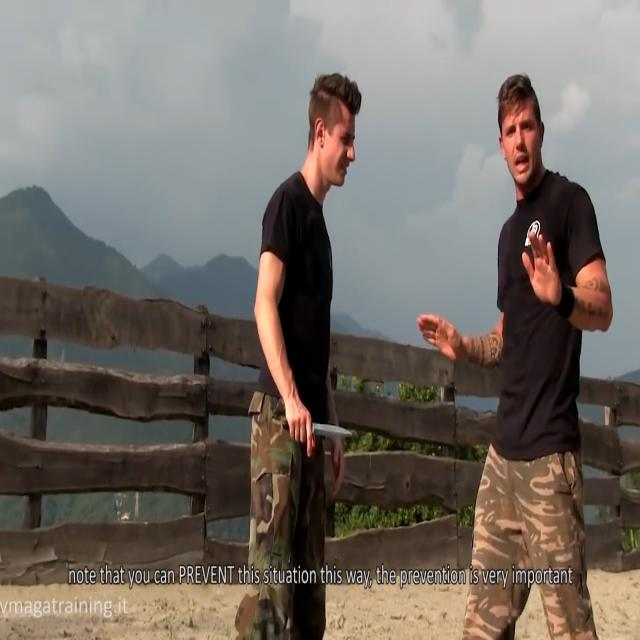knife: (311, 417, 361, 457)
